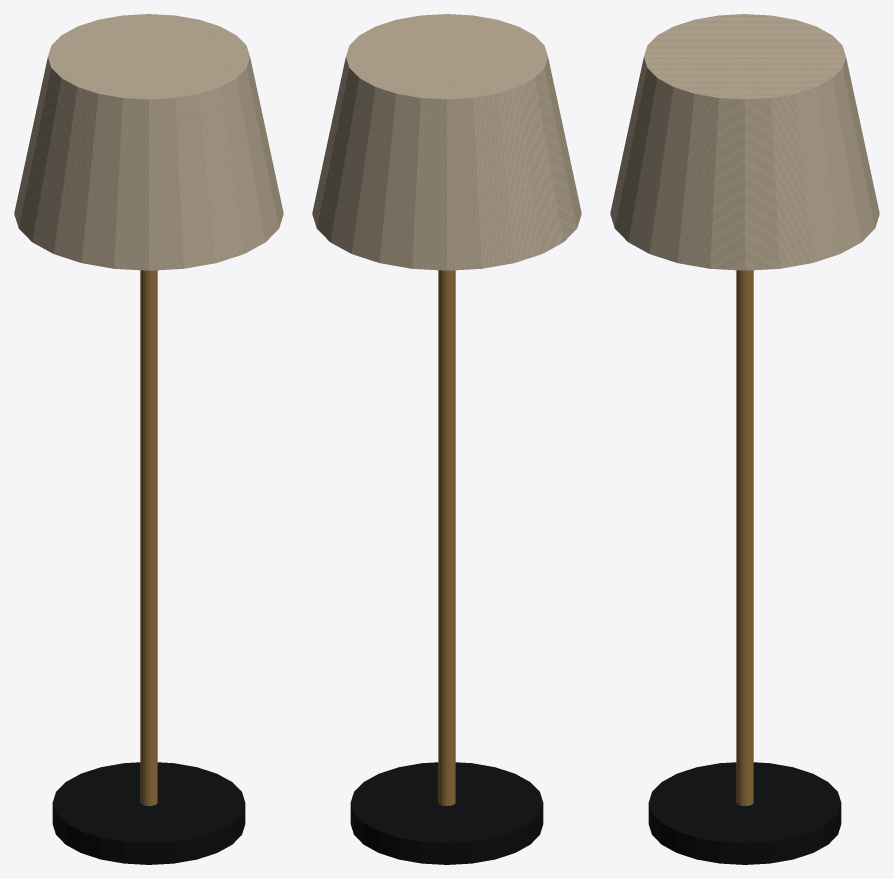
Rendered from floor_lamp.dae.
The picture shows the model from 3 angles, left to right: view 1: azimuth 30°, elevation 25°; view 2: azimuth 150°, elevation 25°; view 3: azimuth 270°, elevation 25°; orthographic projection.
Parts seen in each view (by area): view 1: linen, charcoal, brass; view 2: linen, charcoal, brass; view 3: linen, charcoal, brass.
Part boxes in pixels (x1,y1,x2,y2): linen: [14, 14, 283, 270]; charcoal: [52, 762, 245, 864]; brass: [140, 270, 157, 805]; linen: [312, 14, 581, 270]; charcoal: [350, 762, 543, 864]; brass: [438, 270, 455, 805]; linen: [610, 14, 879, 270]; charcoal: [648, 762, 841, 864]; brass: [736, 270, 753, 805].
Size of the model in its own units: 0.56 by 0.56 by 1.76.
3 materials, 1 textured.
